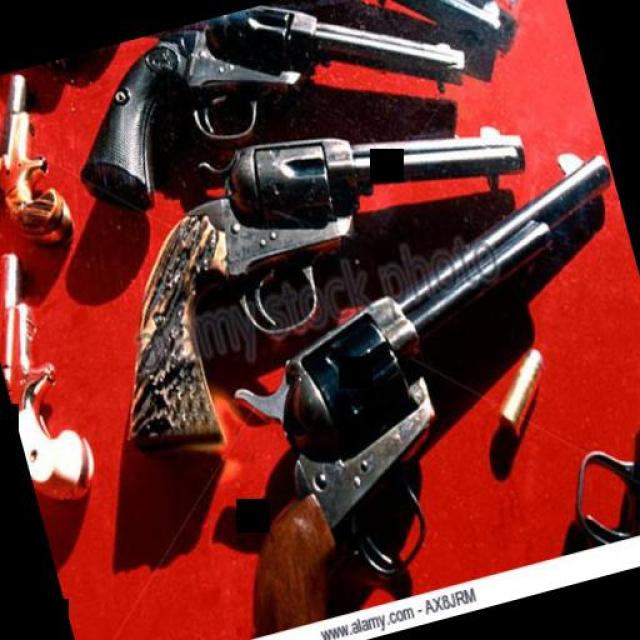gun: (144, 139, 640, 639), (59, 78, 574, 464), (41, 0, 481, 222), (0, 240, 108, 514), (0, 66, 78, 265)
